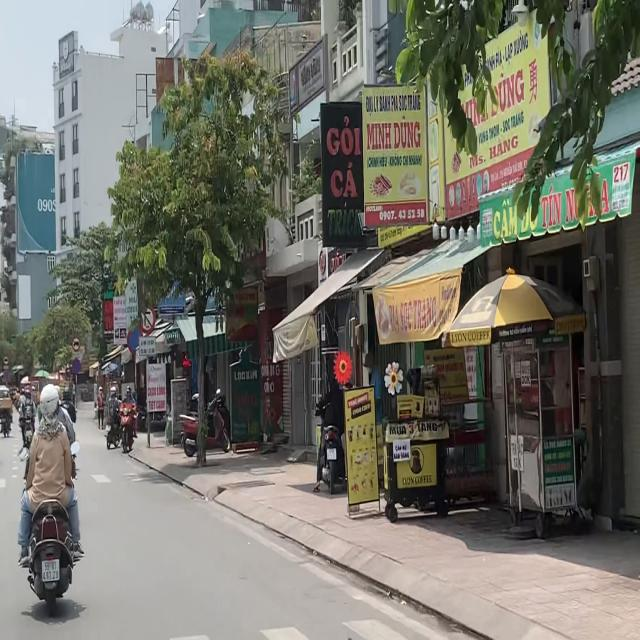Cam con lai: (139, 302, 156, 334), (72, 336, 80, 352)
Cam do: (126, 326, 144, 354)
